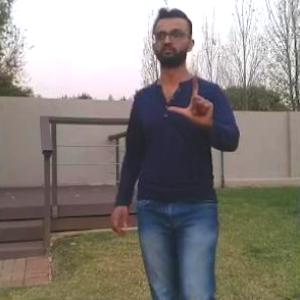land_hand: (166, 64, 216, 126)
